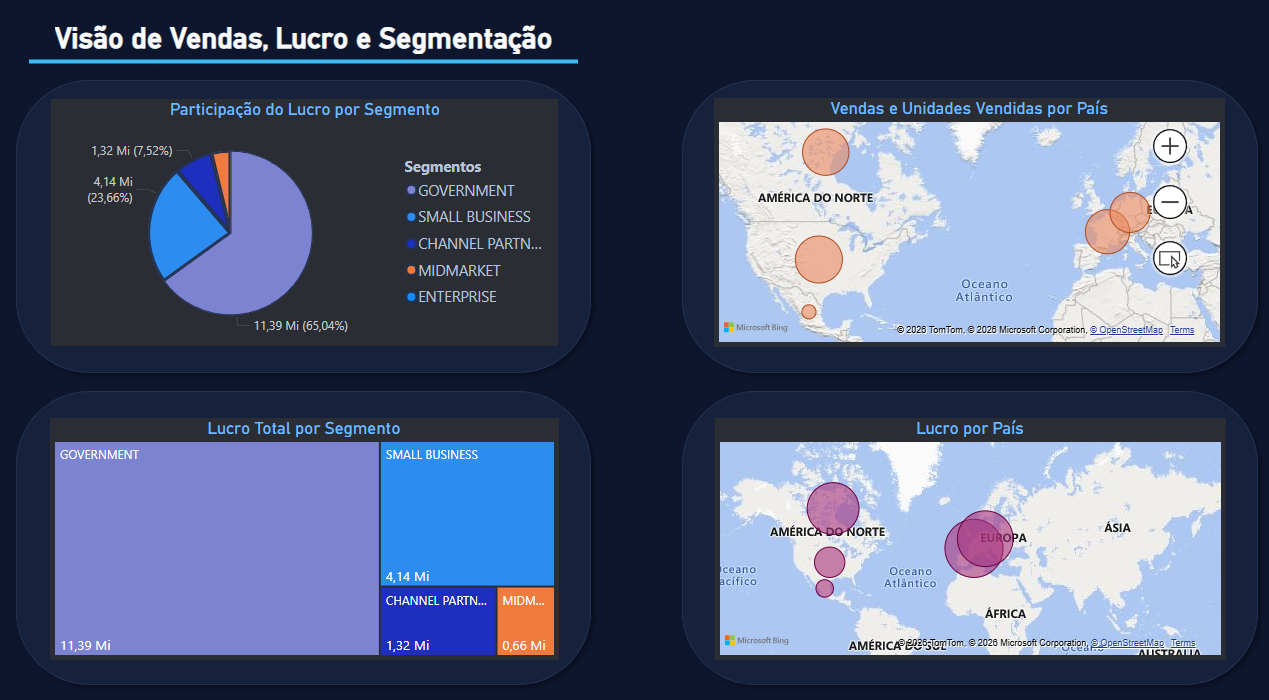

This screenshot's page, from the dashboard's own definition file:
{"tool":"powerbi","page":{"name":"Visão de vendas","canvas":[1280,720],"ordinal":2},"visuals":[{"type":"shape","box":[11.8,395.5,593.6,311.8],"z":0},{"type":"shape","box":[678.2,395.5,593.6,311.8],"z":1000},{"type":"shape","box":[678.2,83.6,593.6,311.8],"z":2000},{"type":"shape","box":[11.8,83.6,593.6,311.8],"z":3000},{"type":"pieChart","title":"Participação do Lucro por Segmento","fields":{"Category":["financials.Segment"],"Y":["Sum(financials.Profit)"]},"box":[54.5,110.9,509.1,249.1],"z":4000},{"type":"map","title":"Vendas e Unidades Vendidas por País","fields":{"Category":["financials.Country"],"Size":["Sum(financials. Sales)"]},"box":[719.1,111,511.3,249],"z":5000},{"type":"map","title":"Lucro por País","fields":{"Category":["financials.Country"],"Size":["Sum(financials.Profit)"]},"box":[720,430.9,510.9,241.8],"z":6000},{"type":"treemap","title":"Lucro Total por Segmento","fields":{"Group":["financials.Segment"],"Values":["Sum(financials.Profit)"]},"box":[54.5,430.9,509.1,241.8],"z":7000},{"type":"textbox","title":"Visão de Vendas, Lucro e Segmentação","box":[55,34,599,41],"z":8000},{"type":"shape","box":[34,45,549,59],"z":9000}]}

Visuals, with their boxes in screenshot pixels (x1, y1, x2, y2), scaled from the page's 1280x720 canvas onto the 1269x700 screenshot:
shape: l=12, t=385, r=600, b=688
shape: l=672, t=385, r=1261, b=688
shape: l=672, t=81, r=1261, b=384
shape: l=12, t=81, r=600, b=384
"Participação do Lucro por Segmento" pieChart: l=54, t=108, r=559, b=350
"Vendas e Unidades Vendidas por País" map: l=713, t=108, r=1220, b=350
"Lucro por País" map: l=714, t=419, r=1220, b=654
"Lucro Total por Segmento" treemap: l=54, t=419, r=559, b=654
"Visão de Vendas, Lucro e Segmentação" textbox: l=55, t=33, r=648, b=73
shape: l=34, t=44, r=578, b=101
